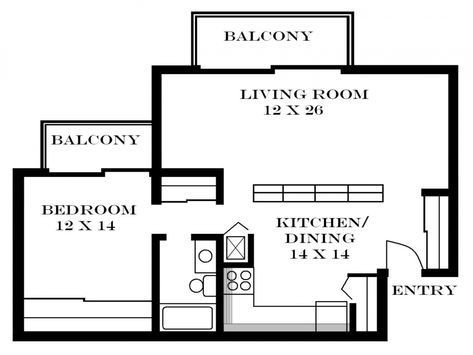door: (379, 230, 424, 273)
room: (150, 60, 460, 339), (13, 164, 161, 336)
wall: (11, 322, 388, 345), (438, 71, 458, 276), (10, 166, 30, 325), (146, 60, 166, 202), (344, 61, 461, 80), (149, 230, 169, 334), (372, 268, 397, 337), (210, 242, 225, 329), (207, 175, 234, 211), (157, 164, 226, 177), (189, 230, 226, 244)
window: (197, 58, 338, 88)
